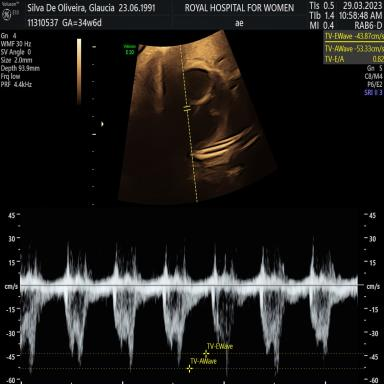Ultrasound-Waves: (23, 216, 357, 375)
